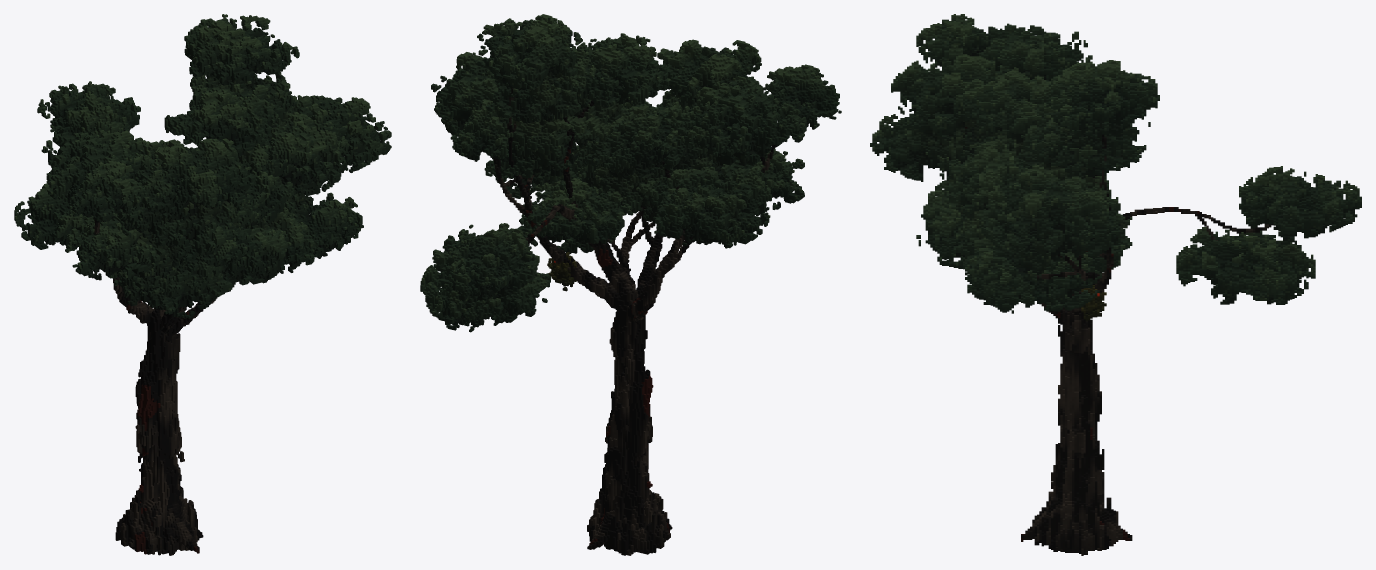
File: arvore_casca_rugosa_01_LOD0.fbx
3 renders of one model, left to right at view 1: azimuth 30°, elevation 25°; view 2: azimuth 150°, elevation 25°; view 3: azimuth 270°, elevation 25°, orthographic. The views are drawn at different scales.
Visible parts, largest first — view 1: arvore_casca_rugosa_01_LOD0; view 2: arvore_casca_rugosa_01_LOD0; view 3: arvore_casca_rugosa_01_LOD0.
Part boxes in pixels (x1=…): arvore_casca_rugosa_01_LOD0: x1=14, y1=14, x2=391, y2=555; arvore_casca_rugosa_01_LOD0: x1=420, y1=14, x2=841, y2=555; arvore_casca_rugosa_01_LOD0: x1=870, y1=14, x2=1361, y2=555.
Bounding box in the file's own units: 1144 × 1525 × 1325.
